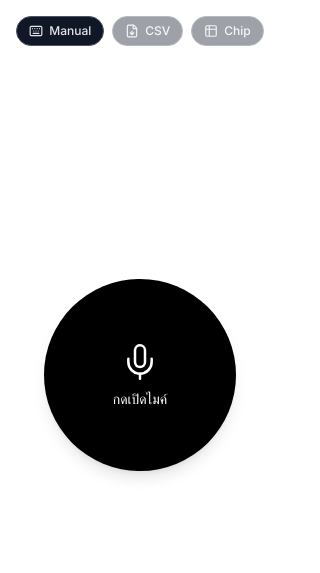
Scenario: CaptureScreen interim bib candidate › session restart preserves pending bib candidate
The width and height of the screenshot is (320, 573).
Click the button "กดเปิดไมค์". click: (140, 375)
box: [44,279,236,471]
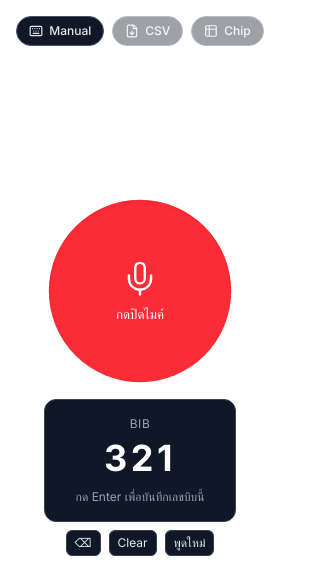
Expected: the element with test id "bib-candidate-box" shows "321", [104,436,176,480]
